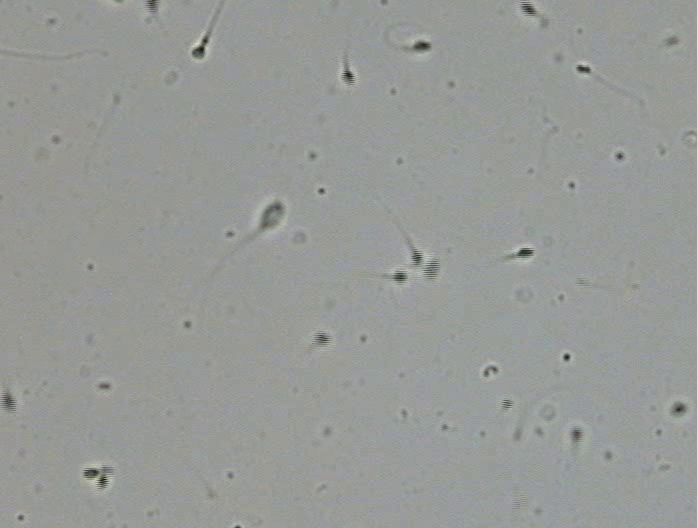S: (259, 201, 286, 229), (1, 391, 17, 414), (423, 258, 439, 279), (341, 69, 356, 87), (412, 40, 432, 53), (521, 1, 537, 17), (313, 332, 330, 347), (409, 248, 423, 266), (392, 270, 408, 284), (96, 474, 109, 490), (82, 467, 98, 479), (145, 1, 159, 14), (672, 403, 686, 416), (516, 248, 534, 258), (570, 428, 582, 443), (192, 46, 205, 59), (576, 64, 591, 74)
